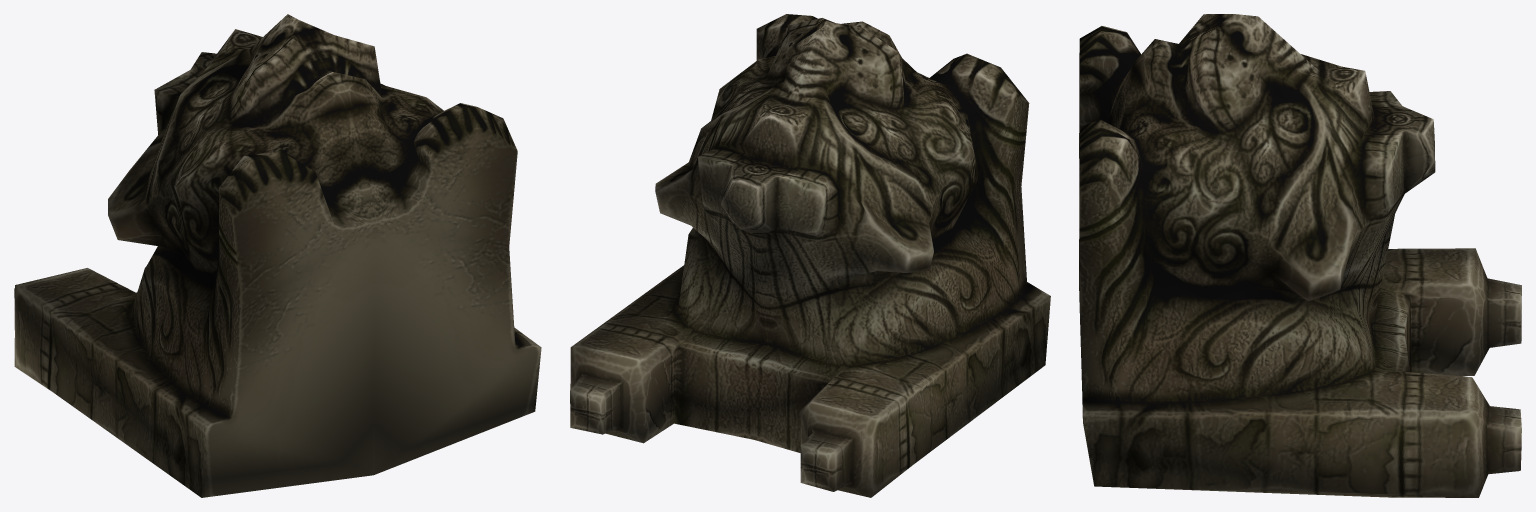
File: Tjabo.fbx
3 renders of one model, left to right at view 1: azimuth 30°, elevation 25°; view 2: azimuth 150°, elevation 25°; view 3: azimuth 270°, elevation 25°, orthographic. The views are drawn at different scales.
Visible parts, largest first — view 1: Tjabo; view 2: Tjabo; view 3: Tjabo.
Part boxes in pixels (<box>): Tjabo: <box>14,14,541,497</box>; Tjabo: <box>570,14,1050,497</box>; Tjabo: <box>1079,14,1521,497</box>.
Size of the model in its own units: 5.3 by 6.02 by 5.91.
